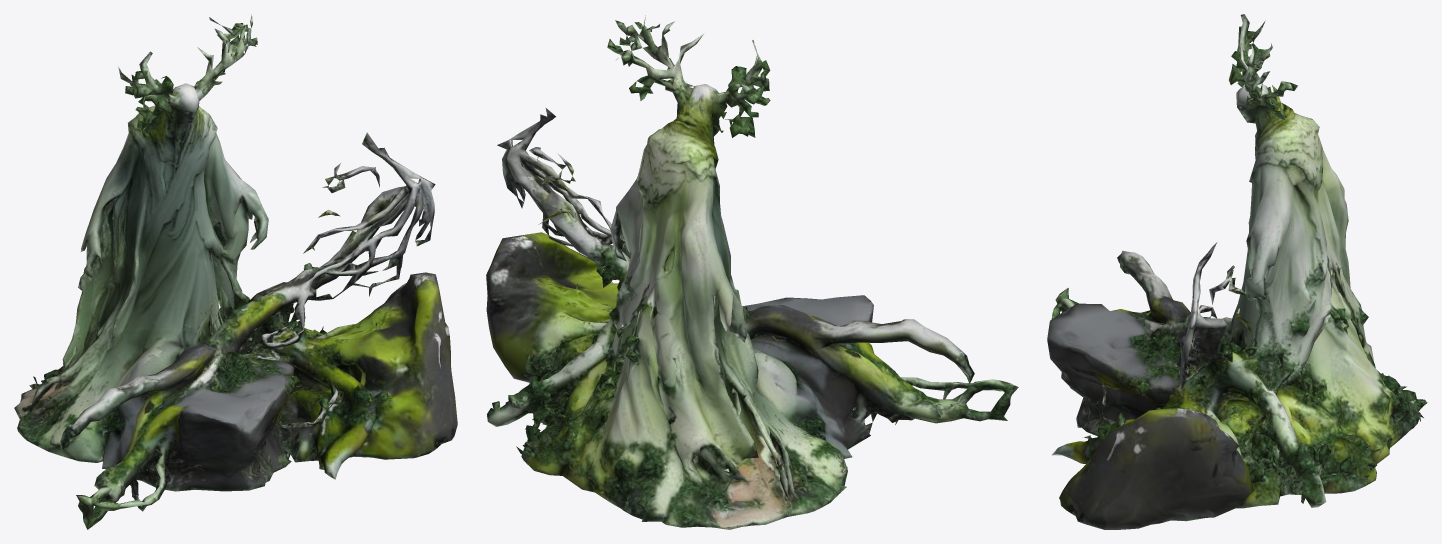
The model's file is Ghost_Druid_Hallowe_1106212421_texture_final.glb.
3 views of the same model, side by side, from view 1: azimuth 30°, elevation 25°; view 2: azimuth 150°, elevation 25°; view 3: azimuth 270°, elevation 25° (orthographic). The views are drawn at different scales.
Visible parts, largest first — view 1: Mesh1.0; view 2: Mesh1.0; view 3: Mesh1.0.
Part boxes in pixels (x1=…): Mesh1.0: x1=14, y1=14, x2=457, y2=529; Mesh1.0: x1=486, y1=15, x2=1018, y2=529; Mesh1.0: x1=1047, y1=14, x2=1427, y2=529.
Bounding box in the file's own units: 1.91 × 1.7 × 1.45.
1 material, 1 textured.
